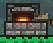furnace: (0, 1, 53, 43)
